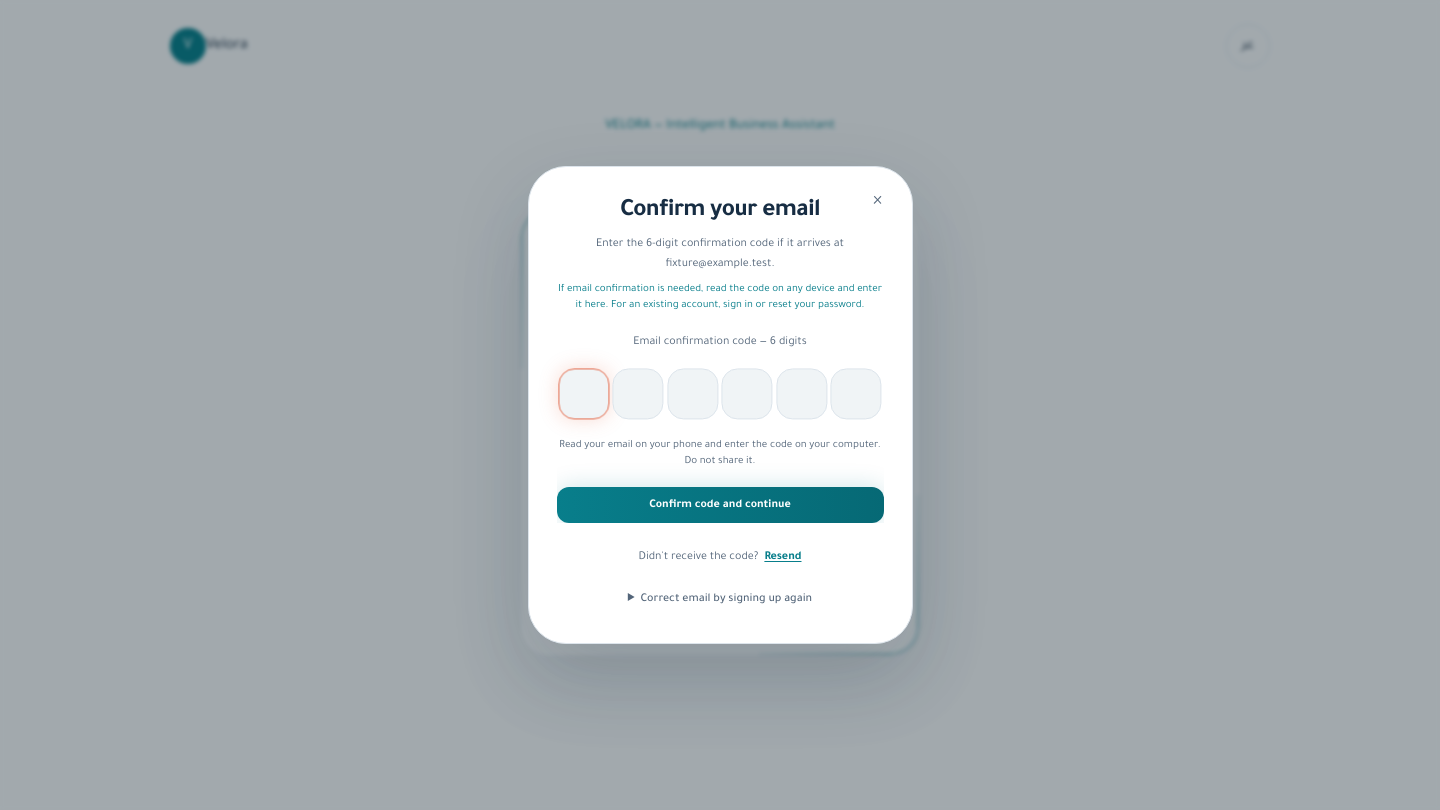
Test: mounted verification result ownership › waits for delayed cooldown initialization before resending
Click the button "Resend". click: (783, 557)
box: [764,539,802,575]
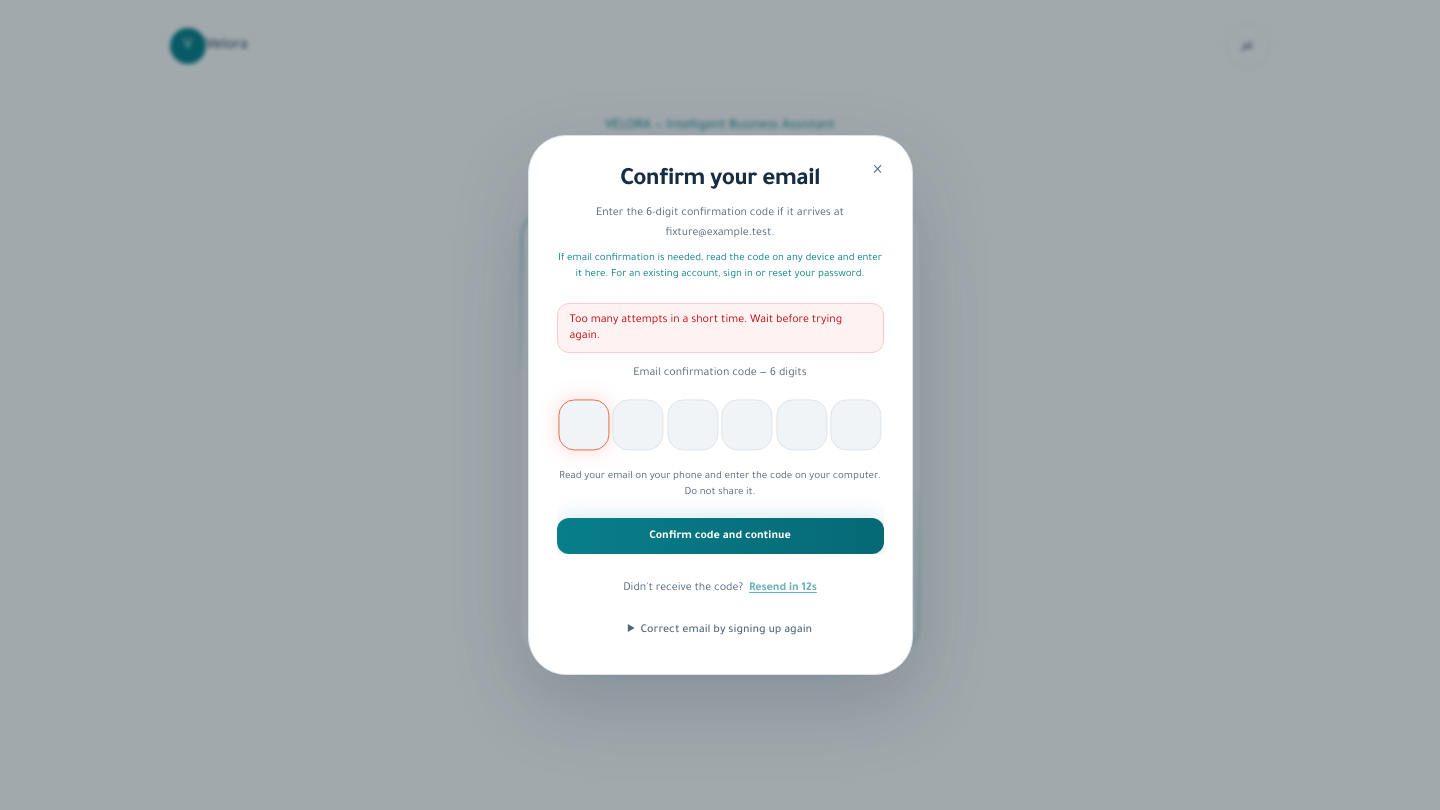
Now the button "Resend in 12s" is disabled, box [749,570,817,606]
